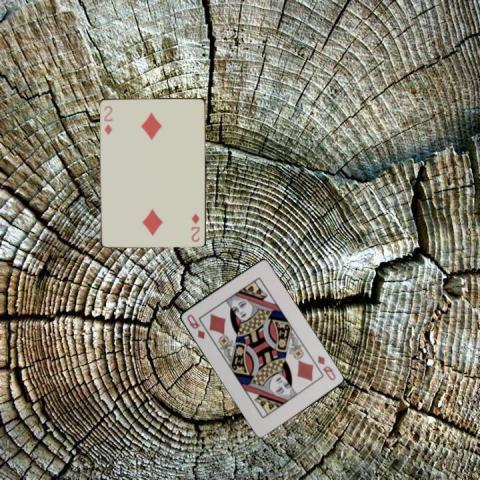2d: (188, 210, 201, 243), (101, 103, 114, 135)
Qd: (183, 311, 206, 341), (314, 352, 337, 382)
